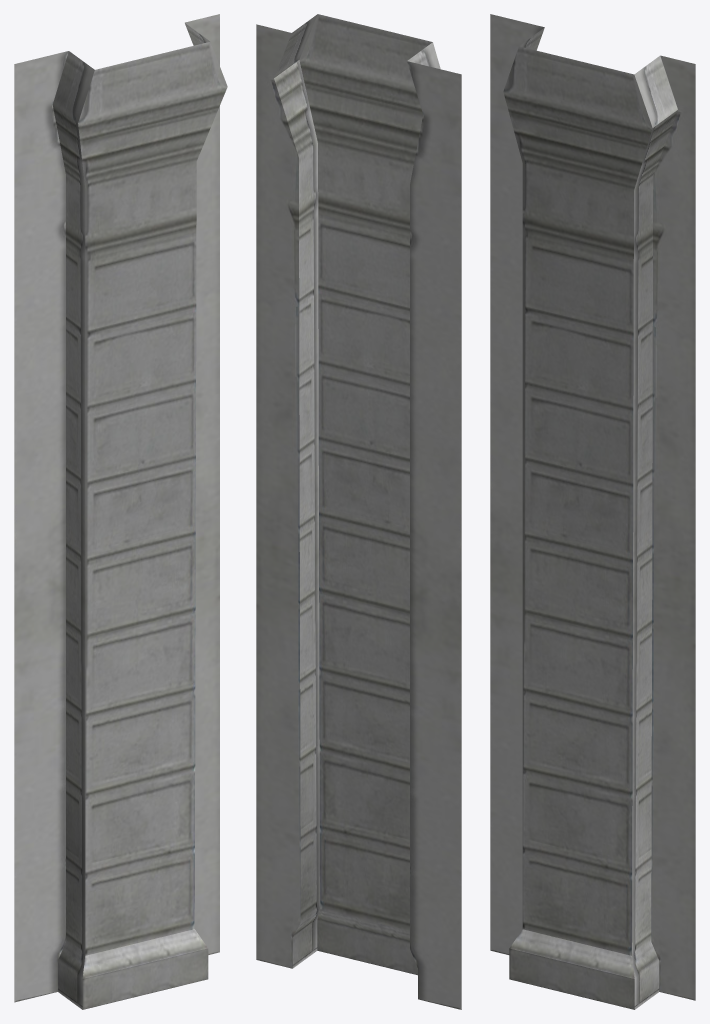
The model's file is pillar.obj.
3 views of the same model, side by side, from view 1: azimuth 30°, elevation 25°; view 2: azimuth 150°, elevation 25°; view 3: azimuth 330°, elevation 25° (orthographic).
Visible parts, largest first — view 1: polySurface101 polySurface100 polySurface98 pCube46; view 2: polySurface101 polySurface100 polySurface98 pCube46; view 3: polySurface101 polySurface100 polySurface98 pCube46.
Boxes of the visible parts, x1,y1,x2,y2 form: polySurface101 polySurface100 polySurface98 pCube46: (14,14,227,1009); polySurface101 polySurface100 polySurface98 pCube46: (256,14,461,1009); polySurface101 polySurface100 polySurface98 pCube46: (490,14,695,1009).
Size of the model in its own units: 0.1907 by 0.8313 by 0.0418.
Materials: 1 (1 with a texture image).
